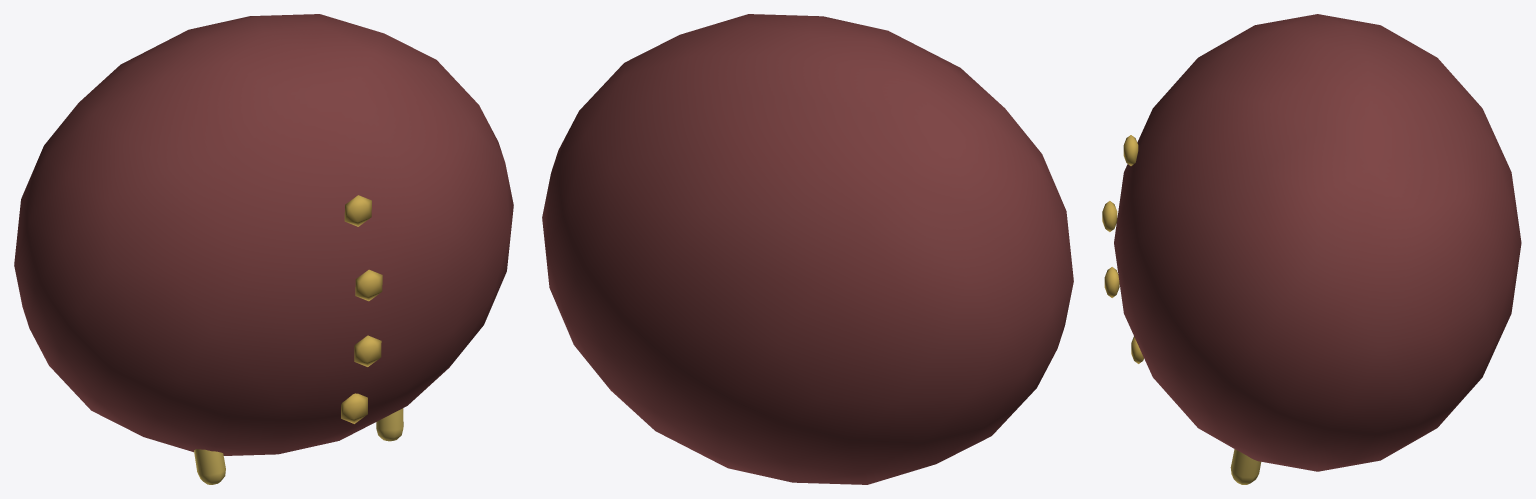
The model's file is outfit.shopkeeper.glb.
3 views of the same model, side by side, from view 1: azimuth 30°, elevation 25°; view 2: azimuth 150°, elevation 25°; view 3: azimuth 270°, elevation 25° (orthographic). The views are drawn at different scales.
Visible parts, largest first — view 1: waistcoat, measuring_tape; view 2: waistcoat; view 3: waistcoat, measuring_tape.
Part boxes in pixels (x1,y1,x2,y2): waistcoat: [14, 14, 513, 455]; measuring_tape: [194, 408, 403, 484]; waistcoat: [542, 14, 1073, 484]; waistcoat: [1102, 14, 1521, 471]; measuring_tape: [1230, 449, 1261, 484].
Bounding box in the file's own units: 0.36 × 0.304 × 0.2879.
